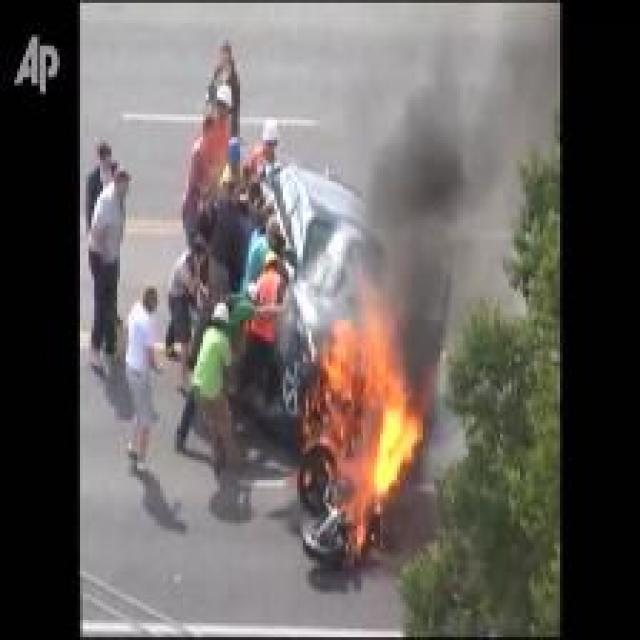Fire: (308, 267, 423, 550)
